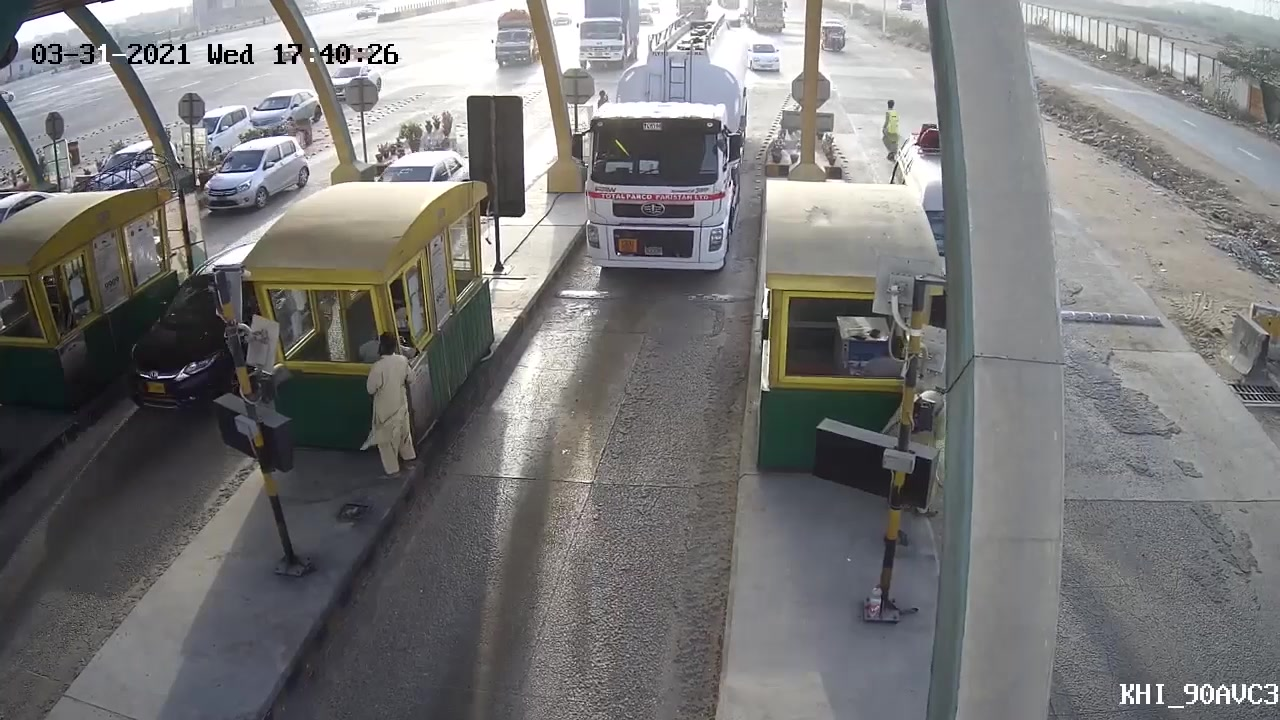F6: (578, 13, 759, 295)
